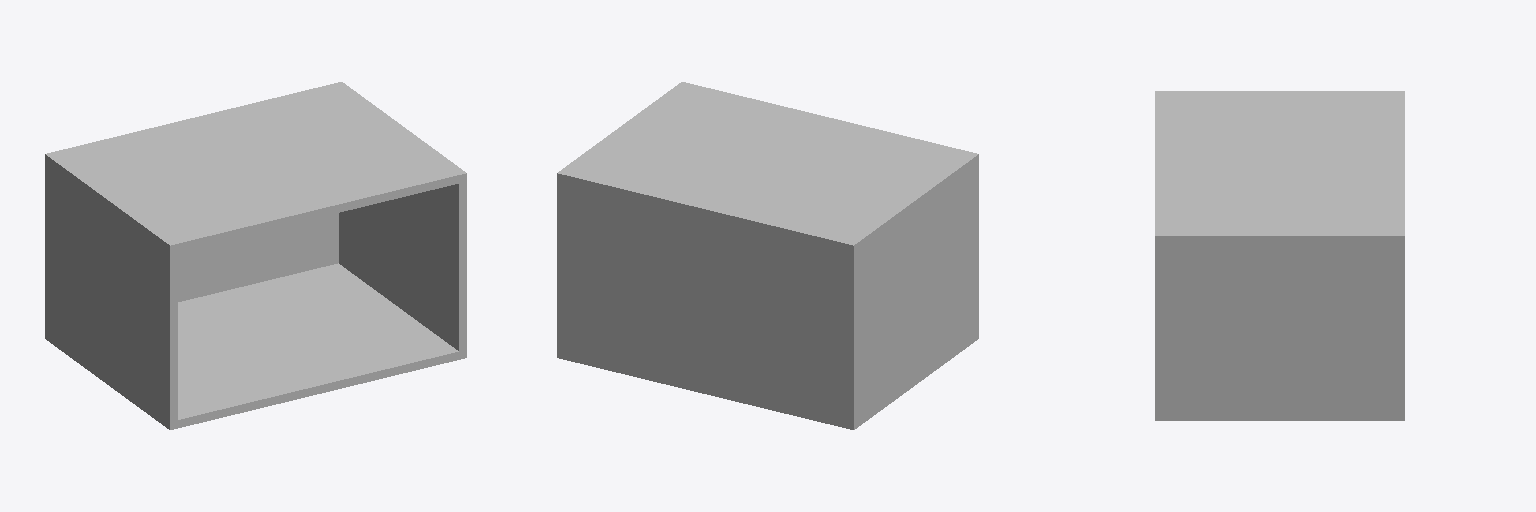
File: occluder.obj
3 views of the same model, side by side, from view 1: azimuth 30°, elevation 25°; view 2: azimuth 150°, elevation 25°; view 3: azimuth 270°, elevation 25° (orthographic).
Visible parts, largest first — view 1: Box002; view 2: Box002; view 3: Box002.
Boxes of the visible parts, box(x1,y1,x2,y2) form: Box002: box(45, 82, 466, 429); Box002: box(557, 82, 978, 429); Box002: box(1155, 91, 1404, 420).
Size of the model in its own units: 37 by 22 by 27.